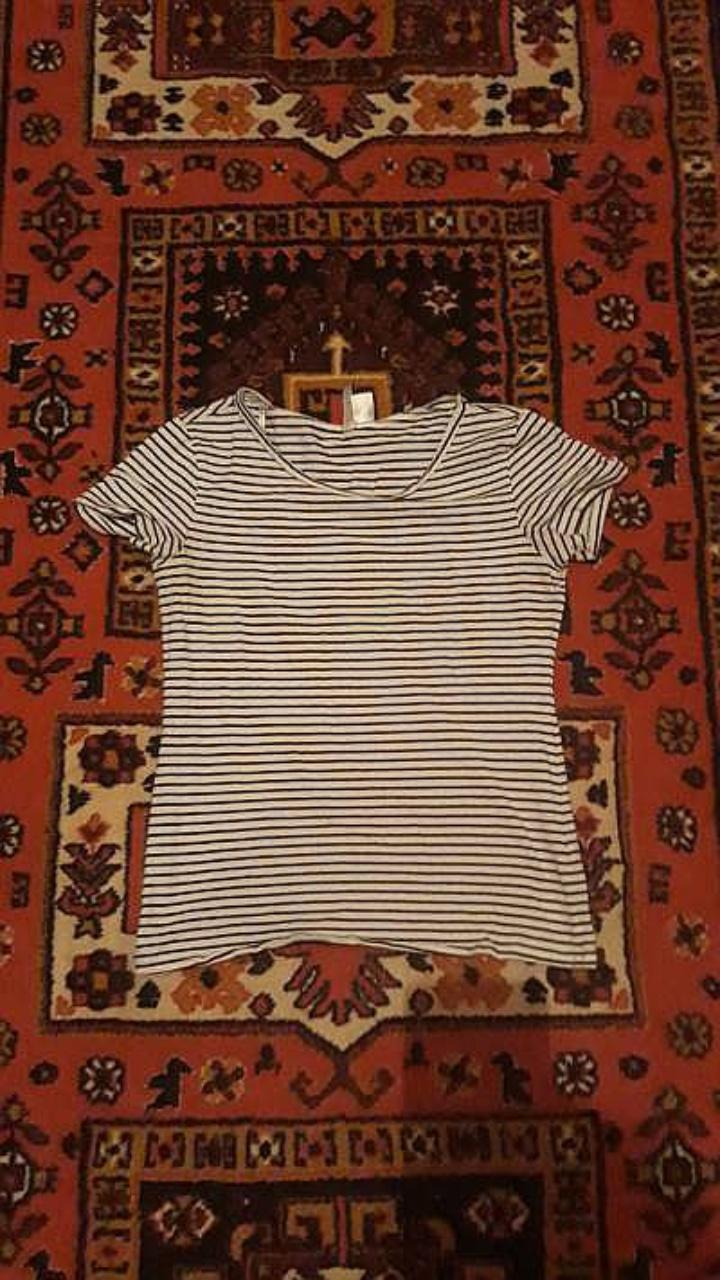T-Shirt: (75, 388, 625, 972)
